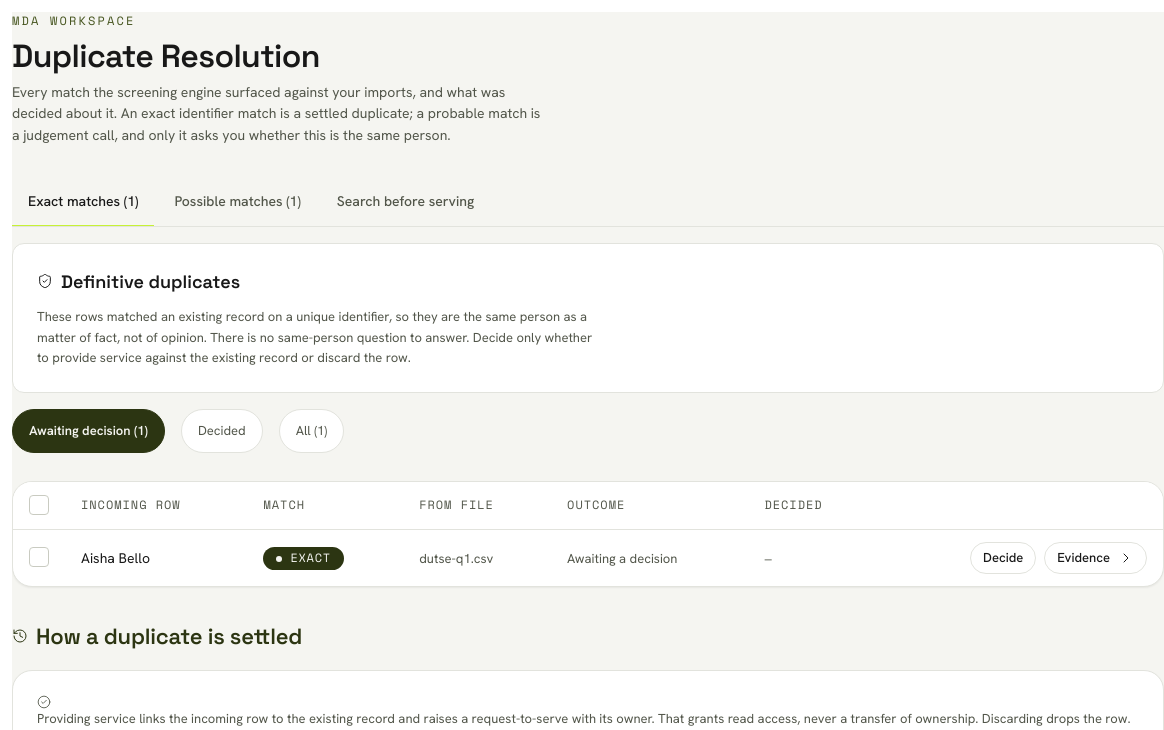
Test: MDA console — Duplicate Resolution › separates exact from possible
Click the tab "Exact matches (1)".
click(83, 203)  # box [12, 179, 154, 226]
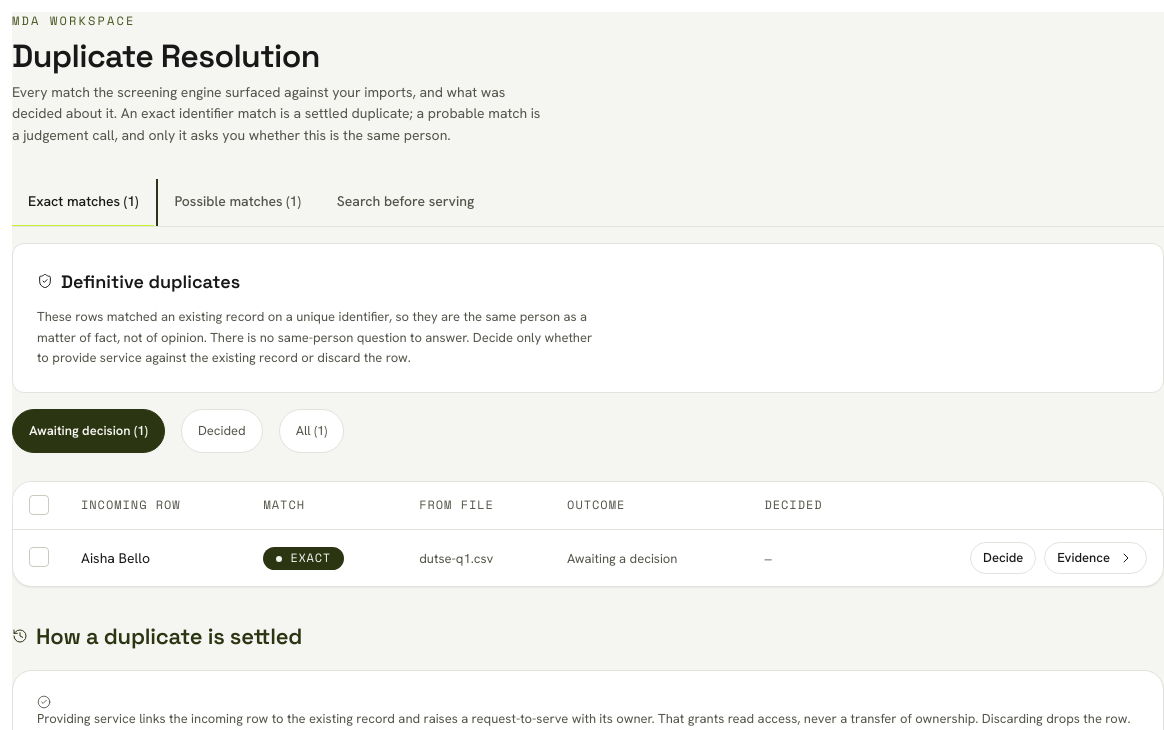
Expected: the text "Aisha Bello" is shown, [65, 530, 248, 586]
Expected: the text "Musa Sani" is not shown
Click the tab "Possible matches (1)".
click(238, 203)  # box [158, 179, 317, 226]
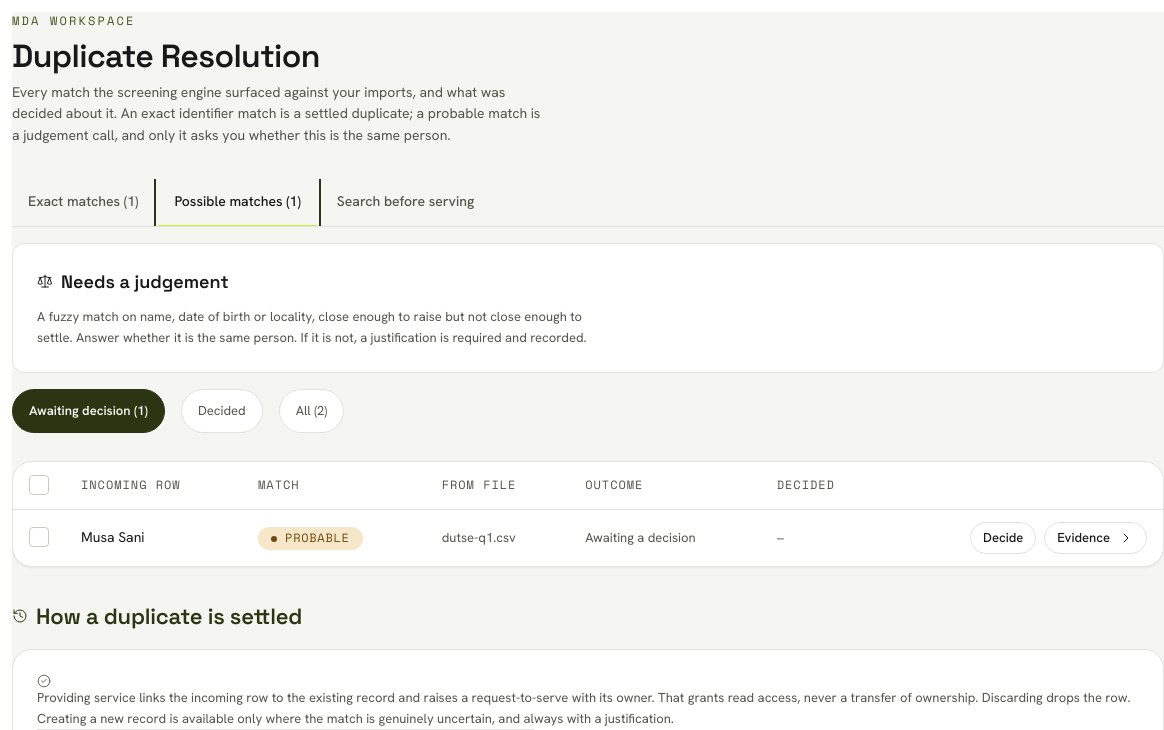
Expected: the text "Musa Sani" is shown, [65, 510, 242, 566]
Expected: the text "Aisha Bello" is gone
